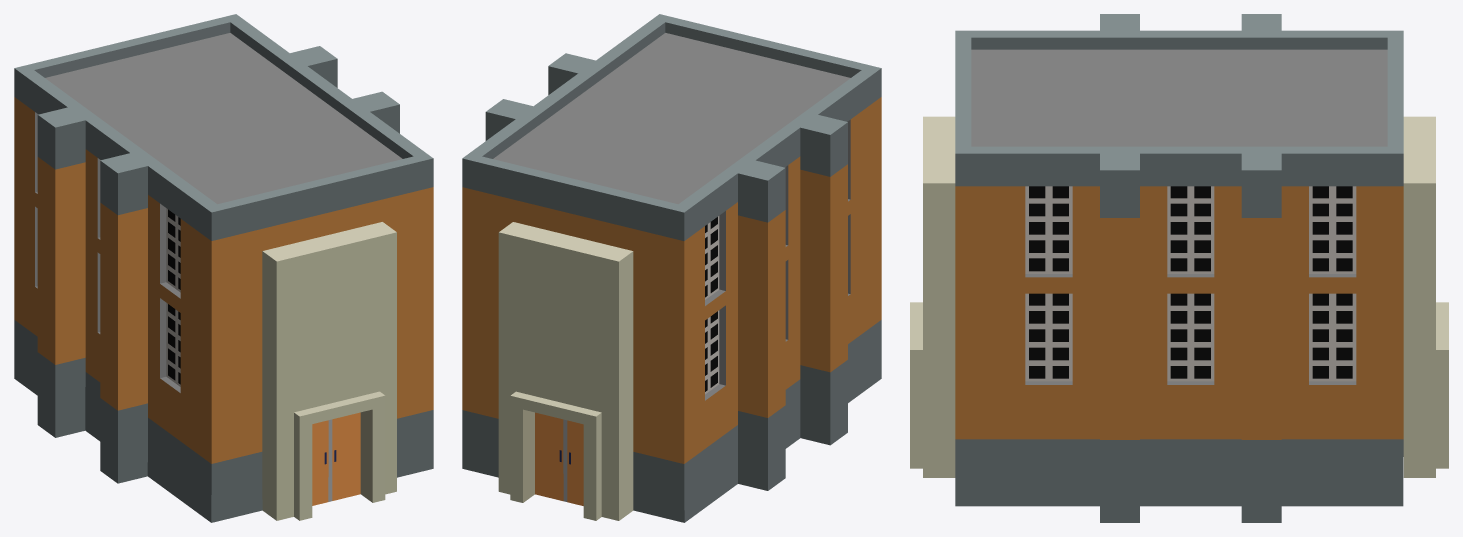
File: Apartment002.fbx
3 views of the same model, side by side, from view 1: azimuth 30°, elevation 25°; view 2: azimuth 150°, elevation 25°; view 3: azimuth 270°, elevation 25° (orthographic). The views are drawn at different scales.
Visible parts, largest first — view 1: Apartment002; view 2: Apartment002; view 3: Apartment002.
Part boxes in pixels (x1,y1,x2,y2): Apartment002: (14,14,433,522); Apartment002: (462,14,881,522); Apartment002: (910,14,1448,522).
Bounding box in the file's own units: 825 × 867 × 1201.
